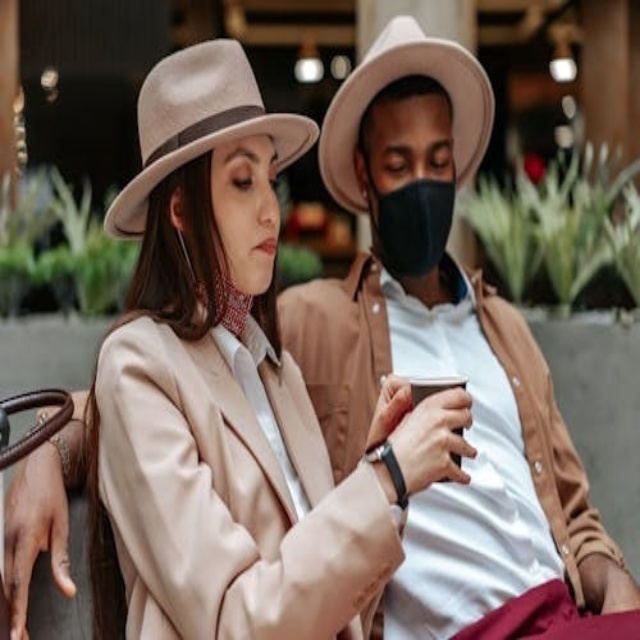Mascara: (368, 159, 456, 277)
Sin_gafas: (375, 138, 461, 183), (229, 150, 280, 204)
Sin_guantes: (2, 405, 85, 640), (373, 378, 477, 502)
Sin_mascara: (234, 225, 282, 277)
